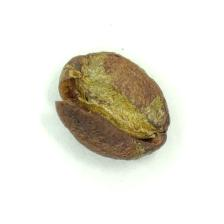NG: (58, 52, 158, 139)
